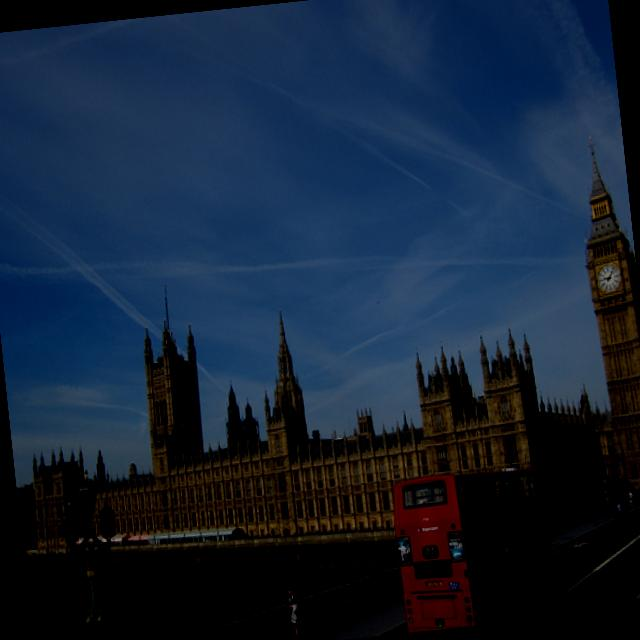Vehicle: (388, 463, 559, 632)
